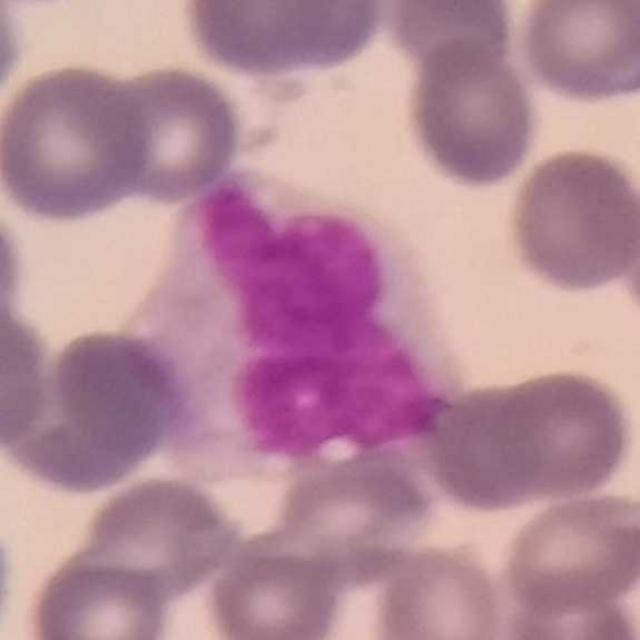mono: (124, 161, 478, 475)
